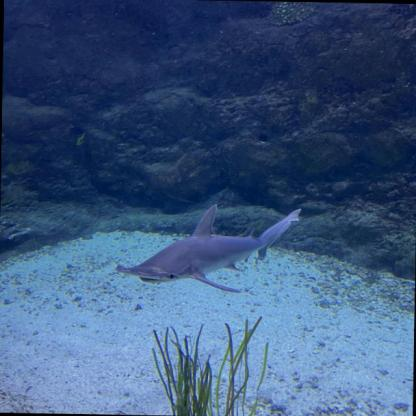shark: (114, 202, 300, 294)
